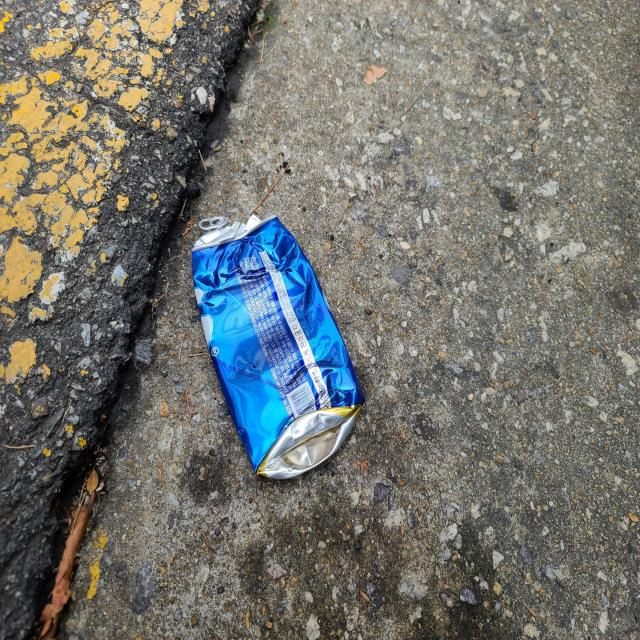can: (192, 216, 364, 479)
